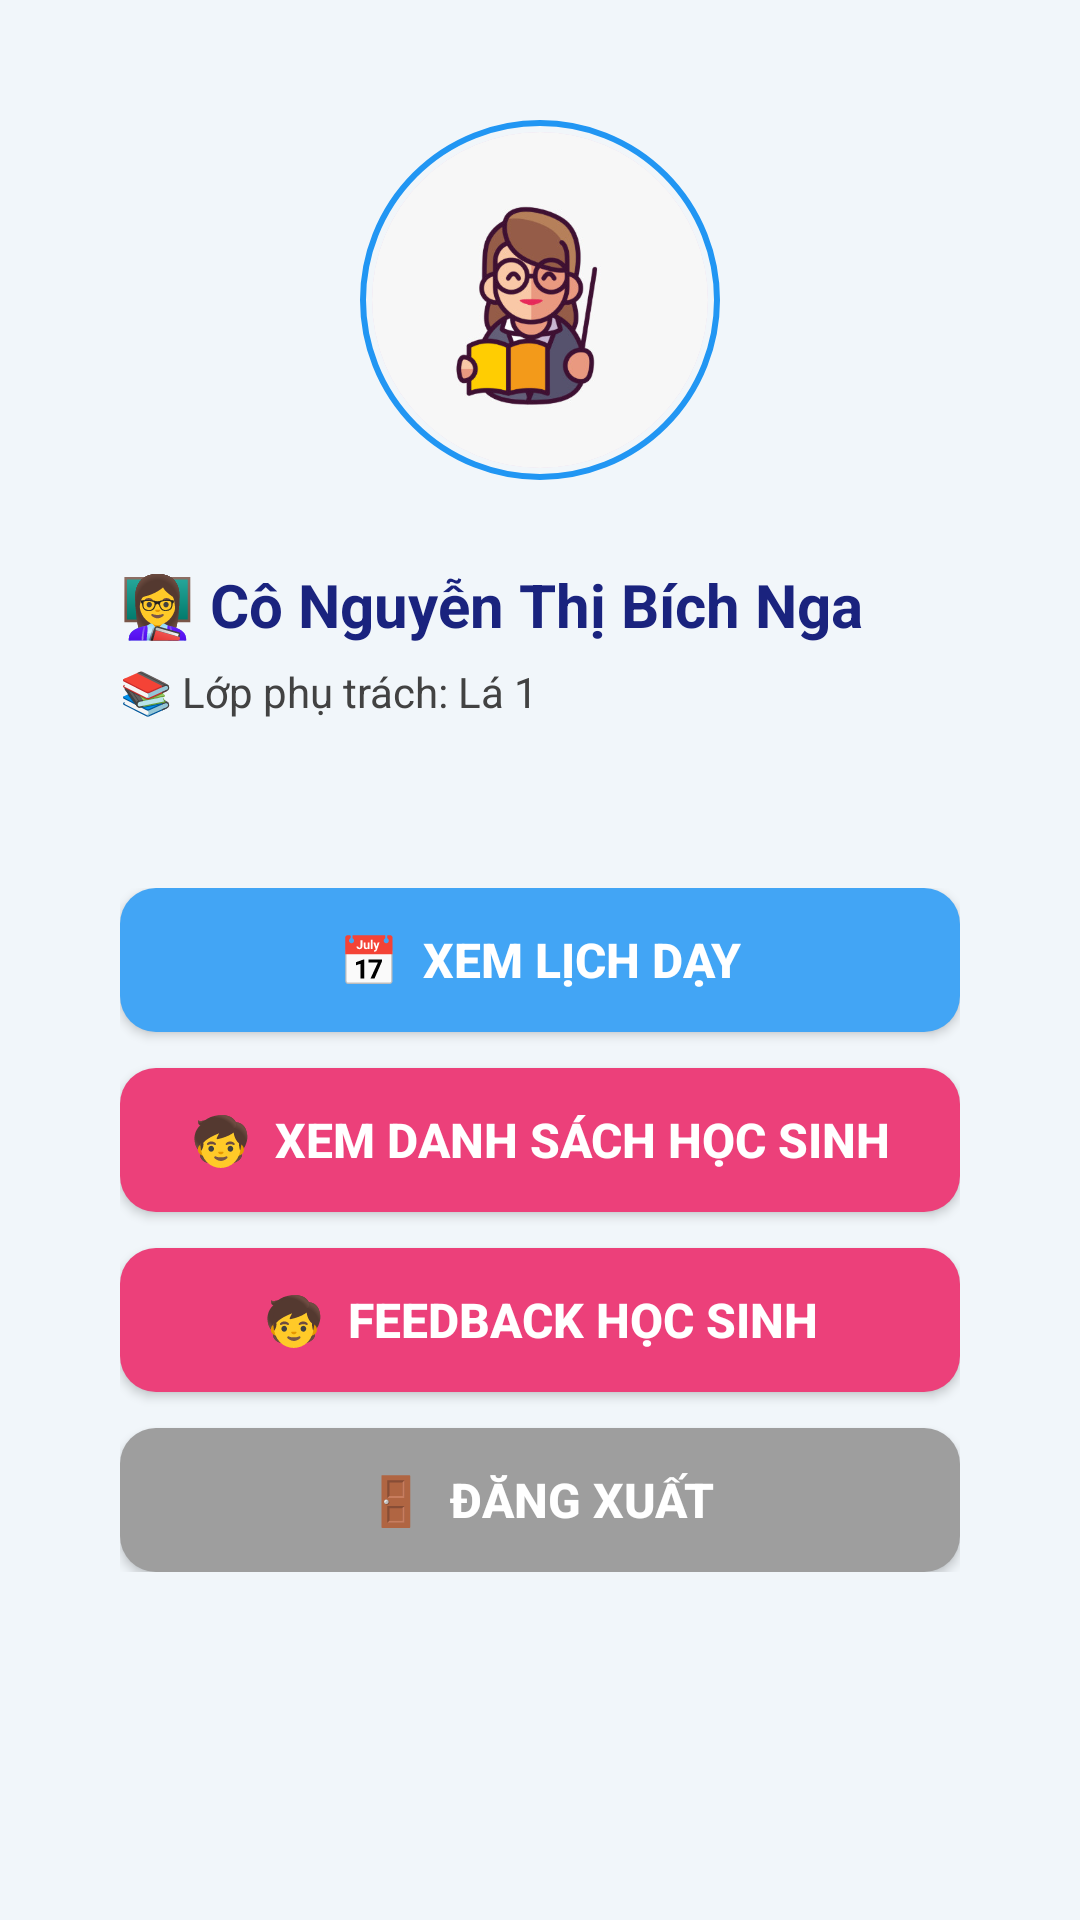

Where icons sit on this 1080 × 1920 app screen, as (x1, y1, x2, y2):
teacher: (456, 207, 597, 405)
